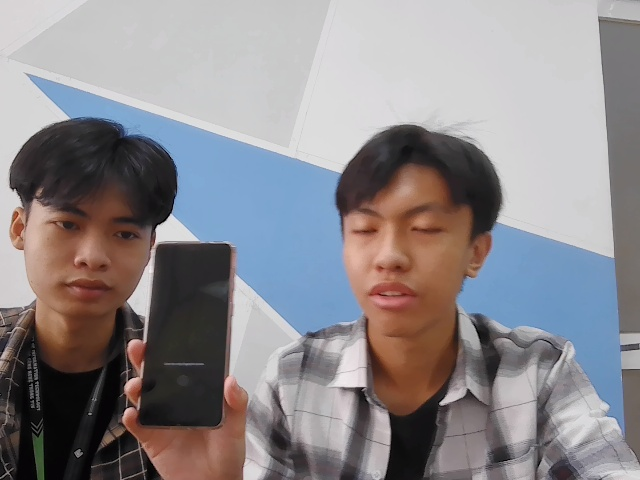human: (334, 125, 505, 338), (9, 128, 166, 333)
phone: (136, 242, 235, 435)
